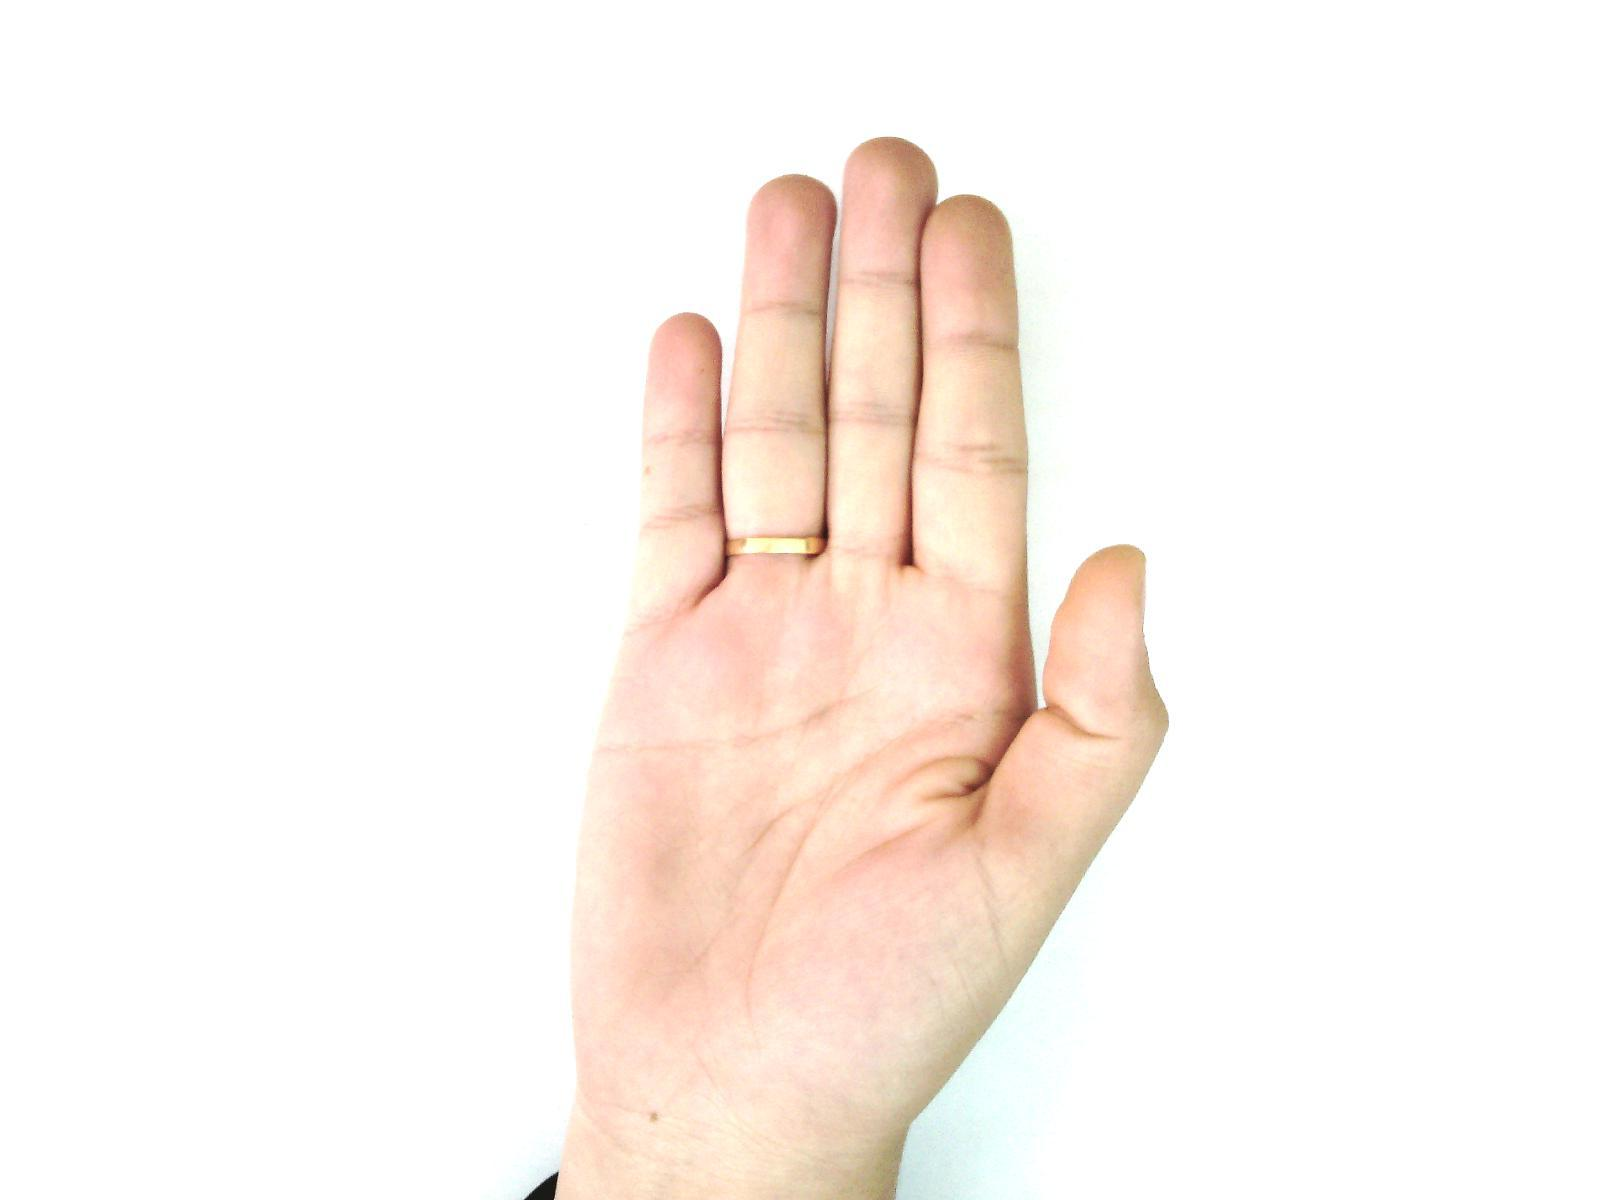hand: (552, 129, 1177, 1187)
